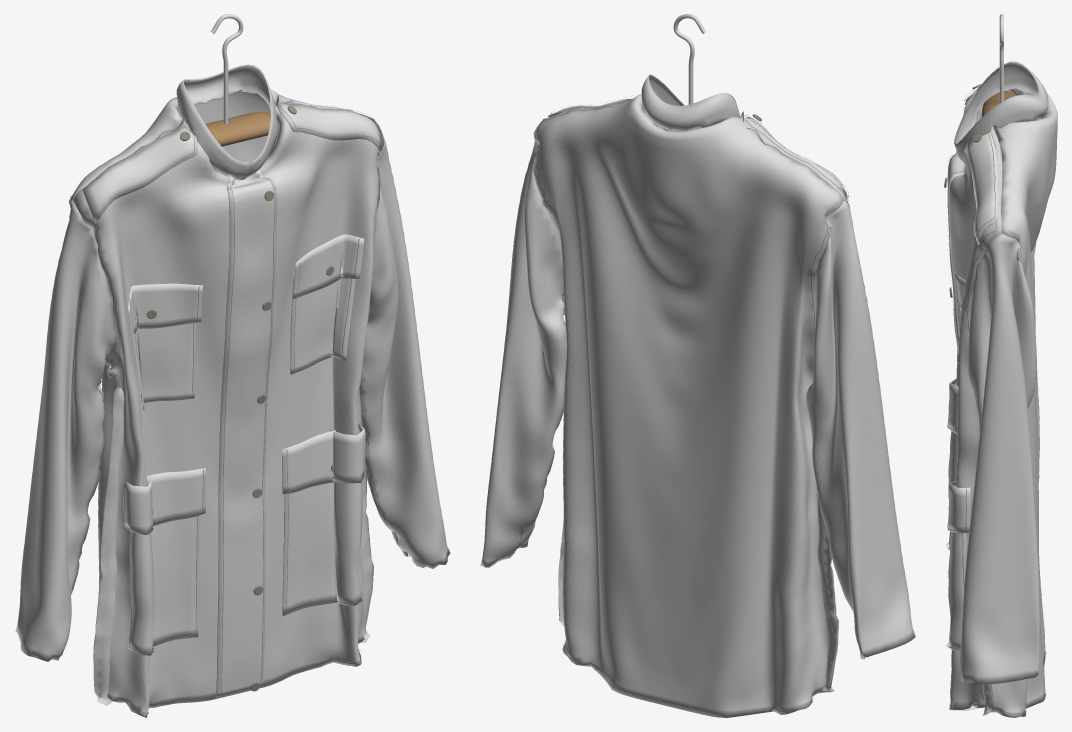
Rendered from field.glb.
3 renders of one model, left to right at view 1: azimuth 30°, elevation 25°; view 2: azimuth 150°, elevation 25°; view 3: azimuth 270°, elevation 25°, orthographic. The views are drawn at different scales.
Parts seen in each view (by area): view 1: cloth-field, stitch, hanger-wood, snaps, hook; view 2: cloth-field, stitch, hook; view 3: cloth-field, stitch, hook, hanger-wood.
Part boxes in pixels (x1,y1,x2,y2): cloth-field: [15, 64, 450, 717]; stitch: [70, 103, 400, 713]; hanger-wood: [205, 111, 270, 146]; snaps: [146, 106, 334, 691]; hook: [210, 14, 243, 123]; cloth-field: [480, 74, 915, 717]; stitch: [524, 101, 848, 714]; hook: [673, 14, 706, 104]; cloth-field: [947, 61, 1057, 717]; stitch: [946, 89, 1046, 713]; hook: [999, 14, 1003, 103]; hanger-wood: [981, 91, 1015, 117].
Bounding box in the file's own units: 0.6146 × 0.9401 × 0.1463.
